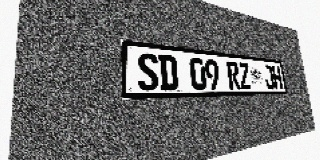0: (189, 57, 207, 90)
9: (204, 59, 221, 90)
D: (158, 54, 178, 91)
H: (271, 66, 283, 89)
J: (263, 65, 275, 89)
R: (226, 61, 241, 90)
S: (137, 52, 159, 91)
Z: (238, 62, 252, 89)
